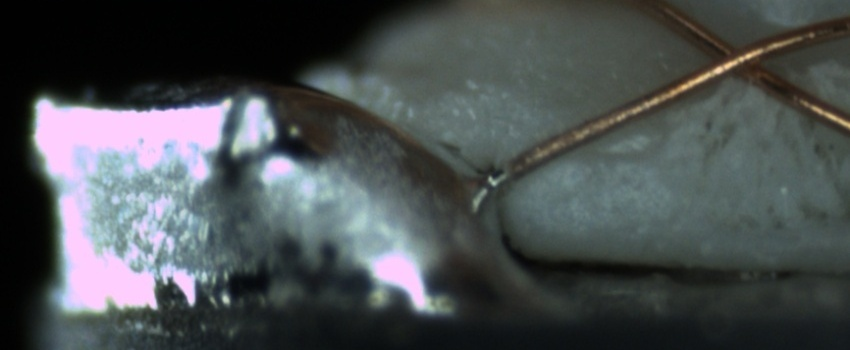CL: (684, 23, 791, 91)
DL: (550, 125, 672, 187)
